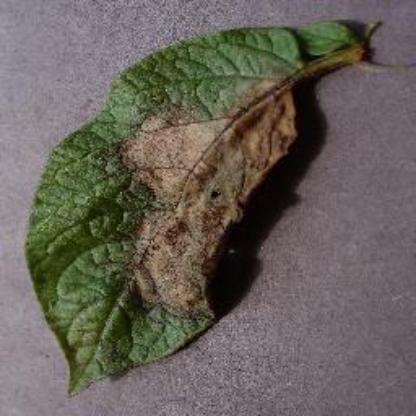Late-Blight: (26, 8, 390, 398)
